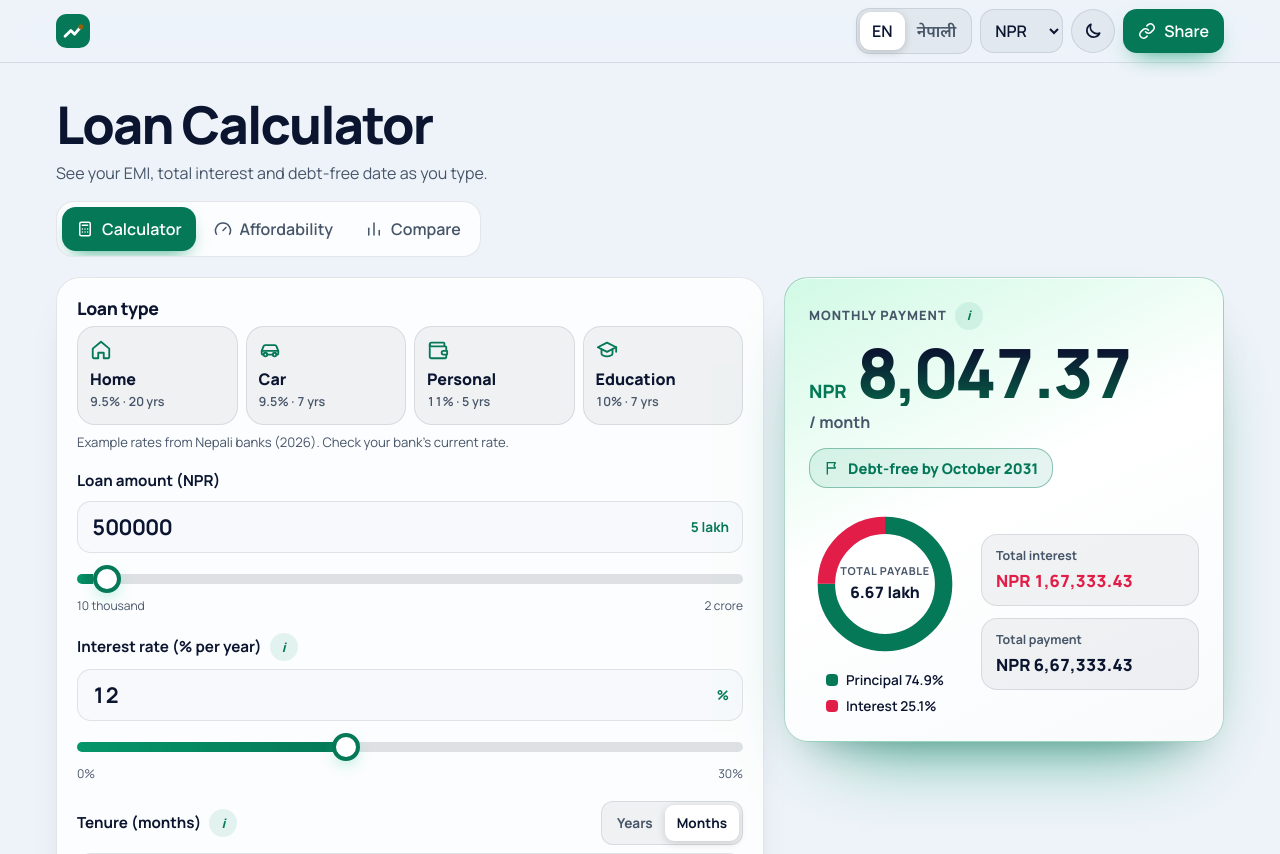
Interest rate (% per year) number field and slider stay in sync
Replace the text in the field labelled "Interest rate (% per year)" with "8.5" at (410, 695), box x1=77 y1=669 x2=743 y2=721
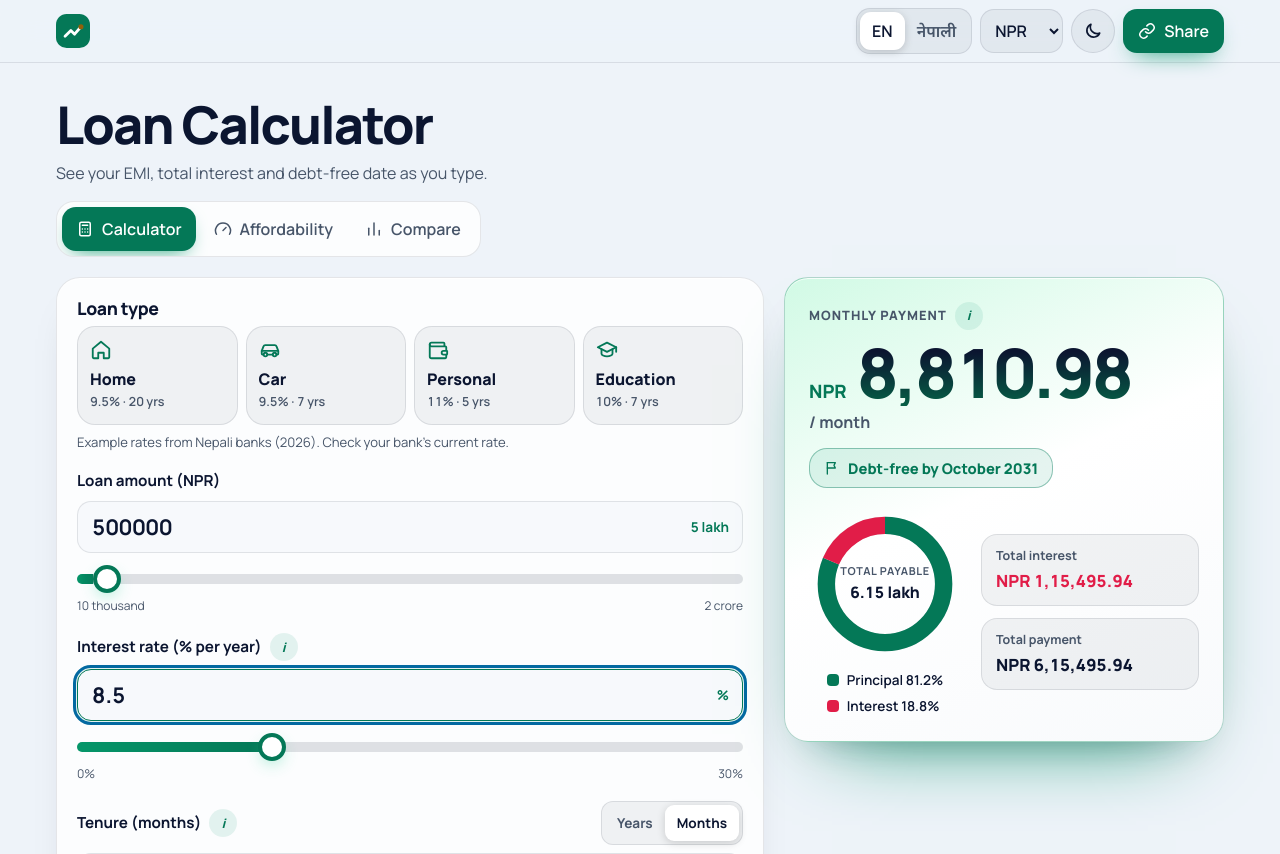
Expected: the slider named "Interest rate slider" holds "8.5"
Set the slider named "Interest rate slider" to "15.5" at (421, 747), box x1=77 y1=725 x2=743 y2=769
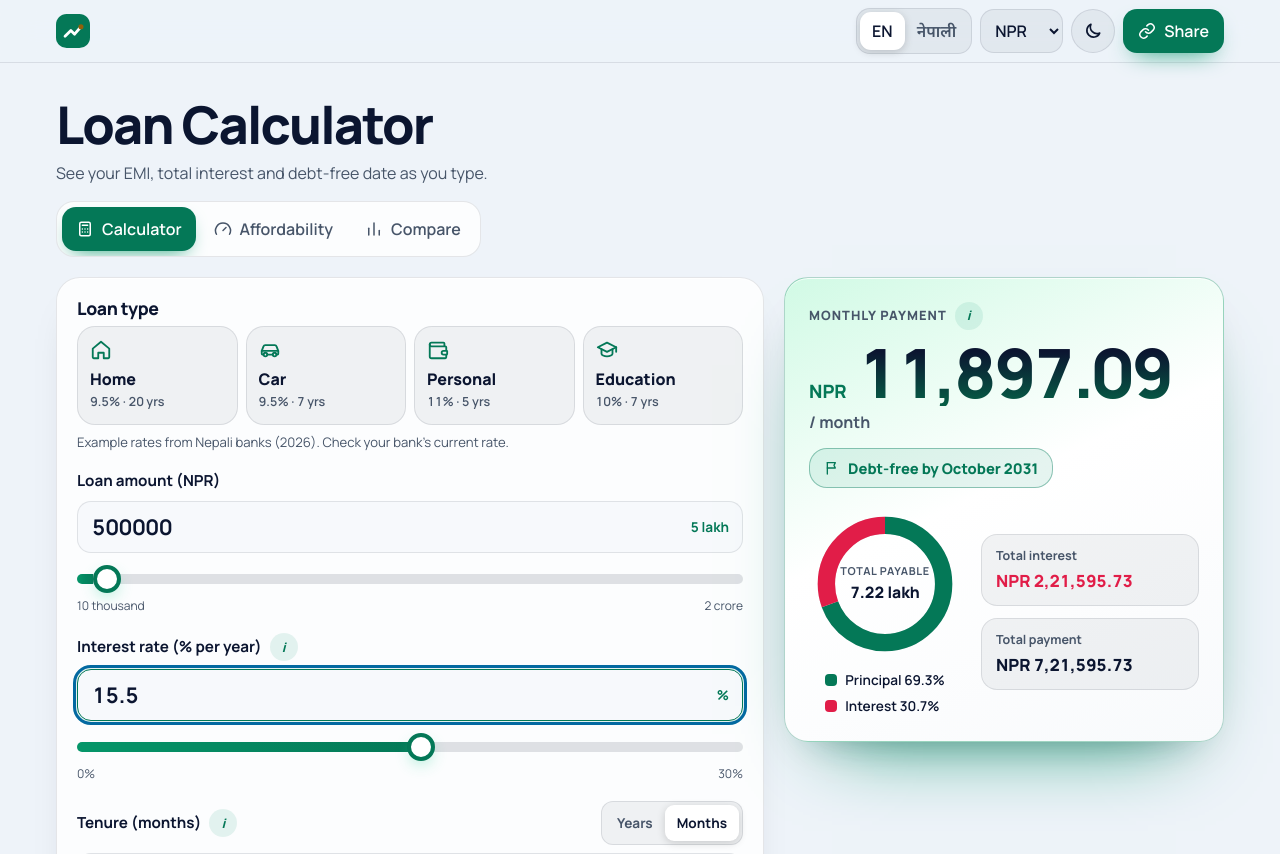
Expected: the field labelled "Interest rate (% per year)" holds "15.5", x1=77 y1=669 x2=743 y2=721
